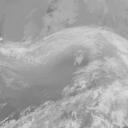cyclone: (33, 33, 105, 96)
